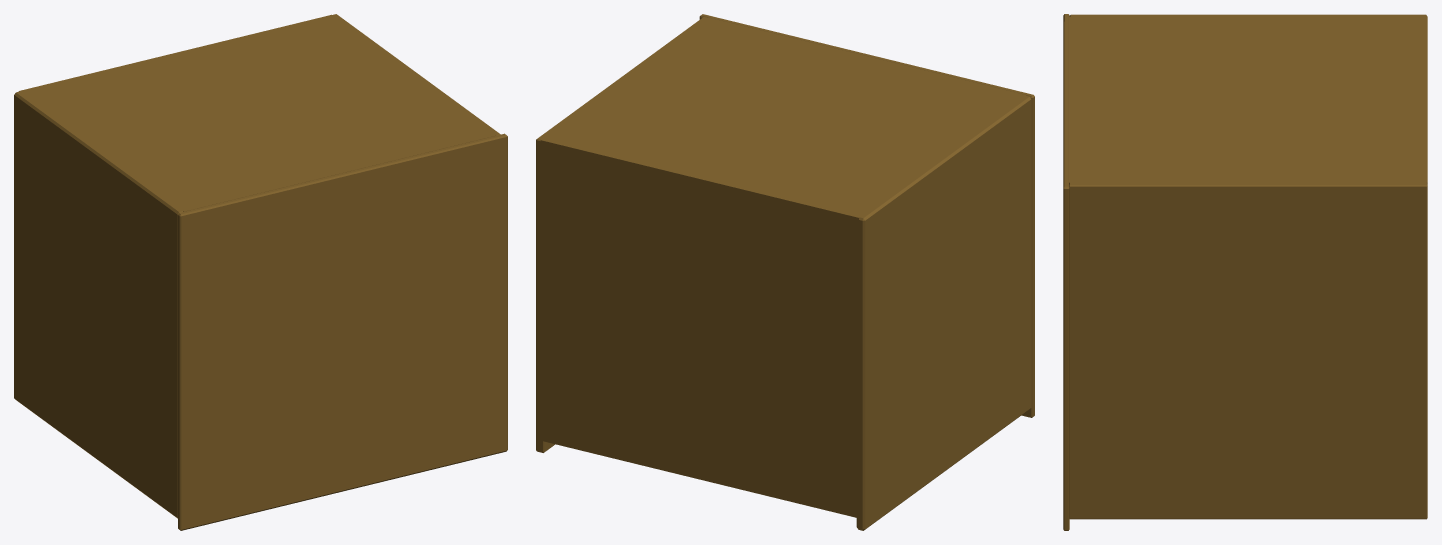
File: DressermeshDresser_318_0.obj
3 views of the same model, side by side, from view 1: azimuth 30°, elevation 25°; view 2: azimuth 150°, elevation 25°; view 3: azimuth 270°, elevation 25° (orthographic). The views are drawn at different scales.
Visible parts, largest first — view 1: Dresser_318; view 2: Dresser_318; view 3: Dresser_318.
Boxes of the visible parts, x1=… form: Dresser_318: x1=14, y1=14, x2=507, y2=530; Dresser_318: x1=536, y1=14, x2=1034, y2=530; Dresser_318: x1=1063, y1=14, x2=1427, y2=530.
Size of the model in its own units: 0.7554 by 0.6965 by 0.6683.
